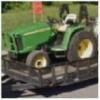tractors: (4, 14, 97, 78)
